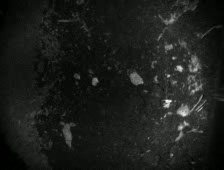corn: (90, 75, 100, 87), (72, 72, 83, 81)
